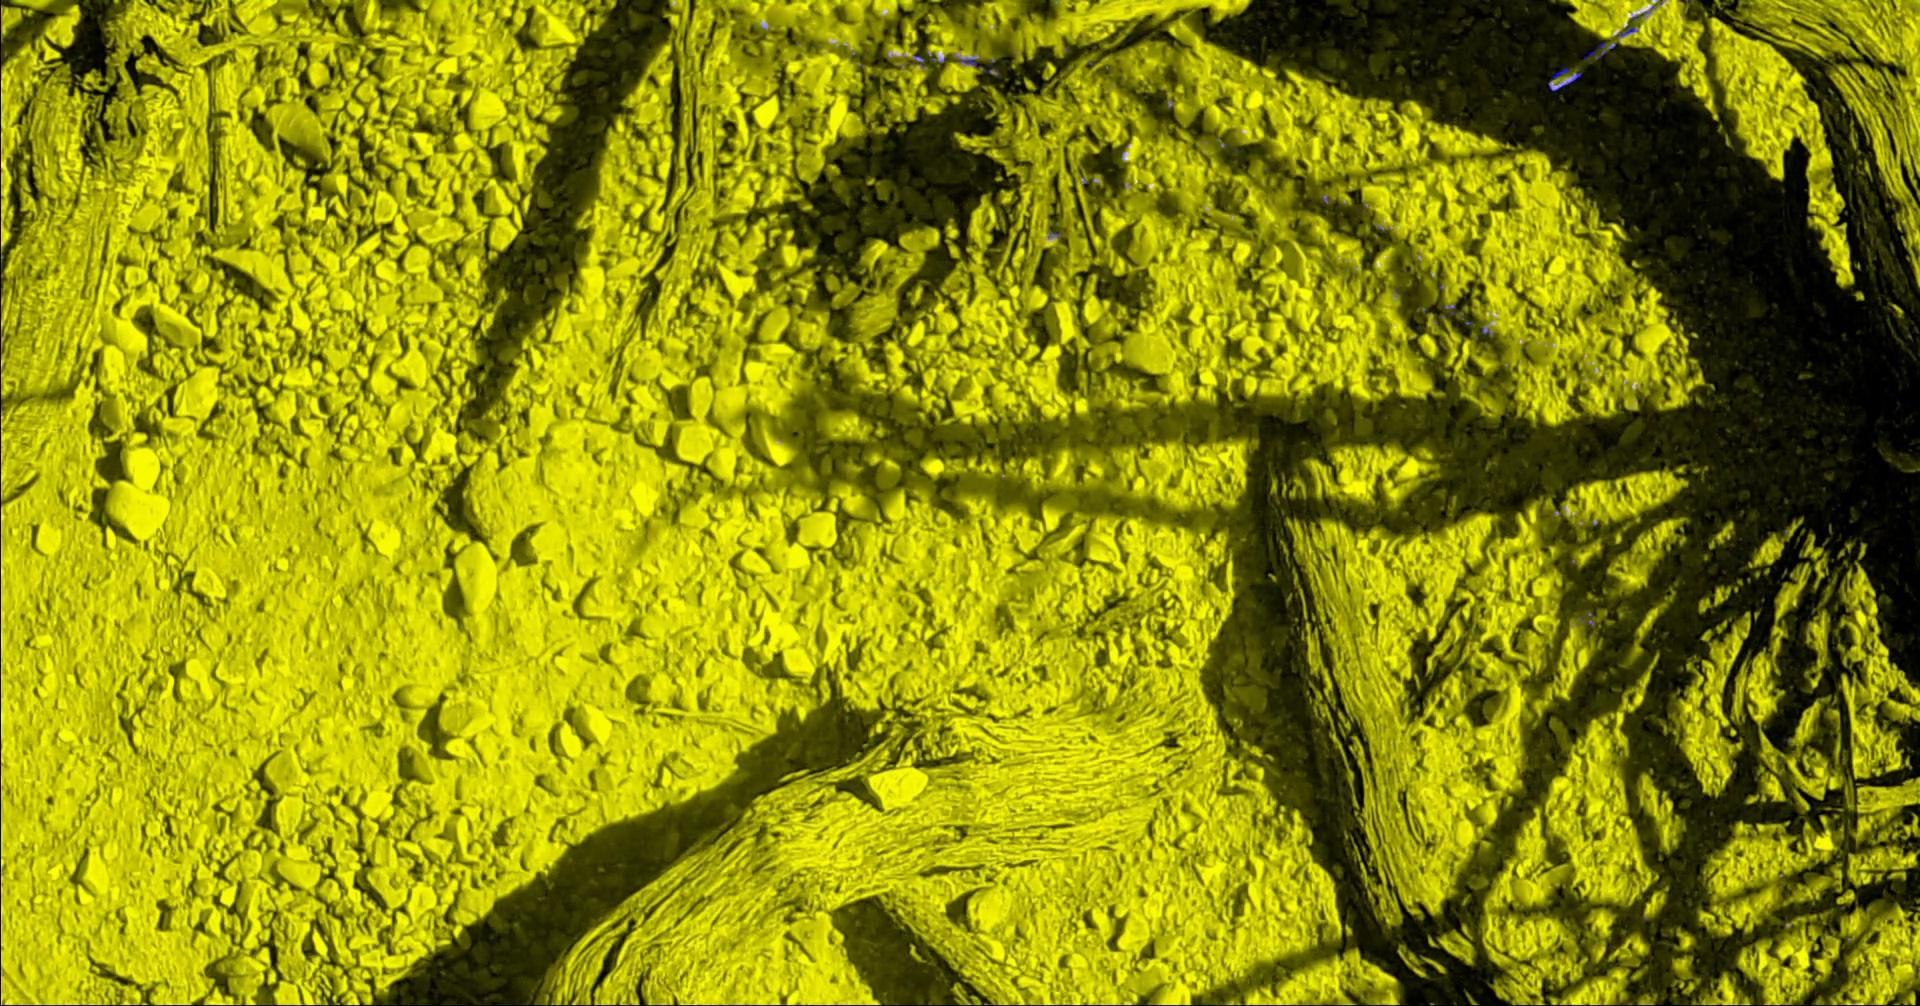ant: (1549, 66, 1583, 91), (961, 58, 1001, 75), (1585, 41, 1617, 58)
